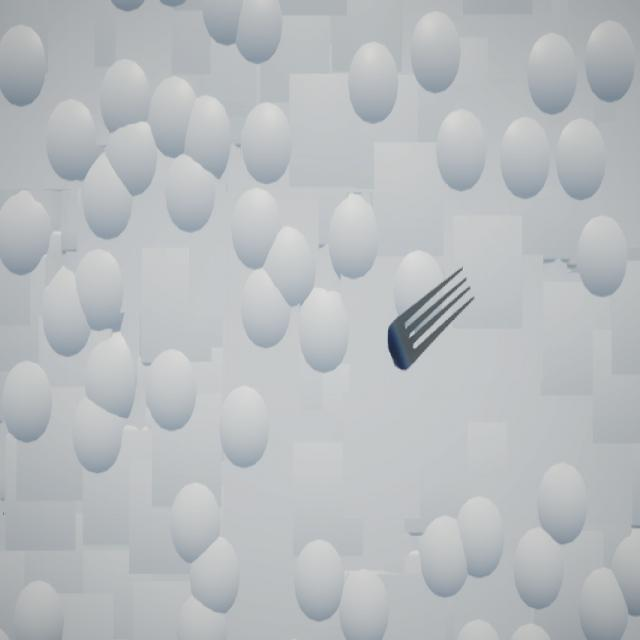top_folk: (388, 269, 475, 373)
